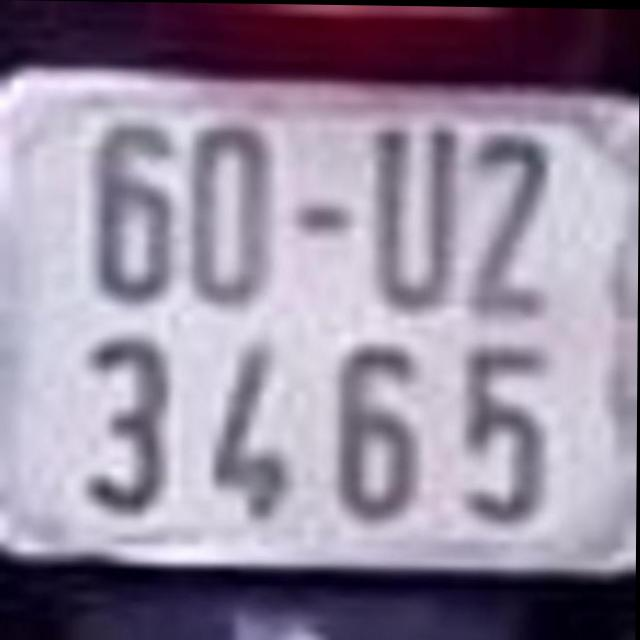0: (189, 127, 274, 302)
2: (465, 130, 548, 322)
3: (79, 333, 175, 528)
4: (200, 340, 294, 523)
5: (458, 331, 565, 543)
6: (335, 334, 432, 528), (94, 124, 182, 306)
U: (372, 121, 461, 310)
